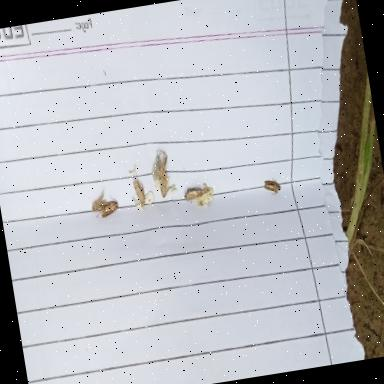pbw: (130, 172, 147, 207), (98, 194, 120, 219), (148, 150, 165, 182), (154, 148, 170, 182), (89, 188, 109, 212), (157, 170, 173, 198), (262, 177, 282, 197), (182, 187, 204, 205)
